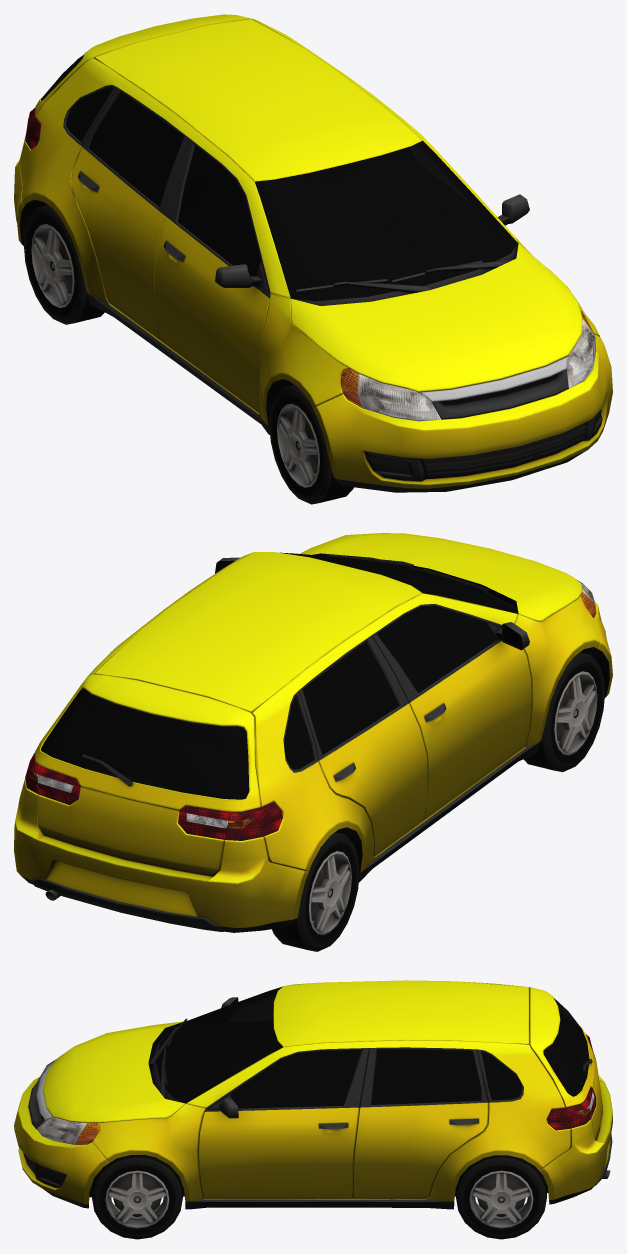
File: car_hatchback.glb
3 renders of one model, top to bottom at view 1: azimuth 30°, elevation 25°; view 2: azimuth 150°, elevation 25°; view 3: azimuth 270°, elevation 25°, orthographic. The views are drawn at different scales.
Parts seen in each view (by area): view 1: Hatchback_Body, Wheel_B002, Wheel_B003; view 2: Hatchback_Body, Wheel_B003, Wheel_B002; view 3: Hatchback_Body, Wheel_B, Wheel_B001.
Boxes of the visible parts, box(x1,y1,x2,y2) form: Hatchback_Body: box(14, 14, 612, 492); Wheel_B002: box(269, 384, 353, 504); Wheel_B003: box(23, 204, 104, 324); Hatchback_Body: box(14, 533, 612, 932); Wheel_B003: box(272, 832, 359, 951); Wheel_B002: box(523, 652, 604, 772); Hatchback_Body: box(14, 980, 612, 1209); Wheel_B: box(92, 1155, 182, 1239); Wheel_B001: box(456, 1155, 546, 1239).
Size of the model in its own units: 1.74 by 1.35 by 3.95.
4 materials, 3 textured.
